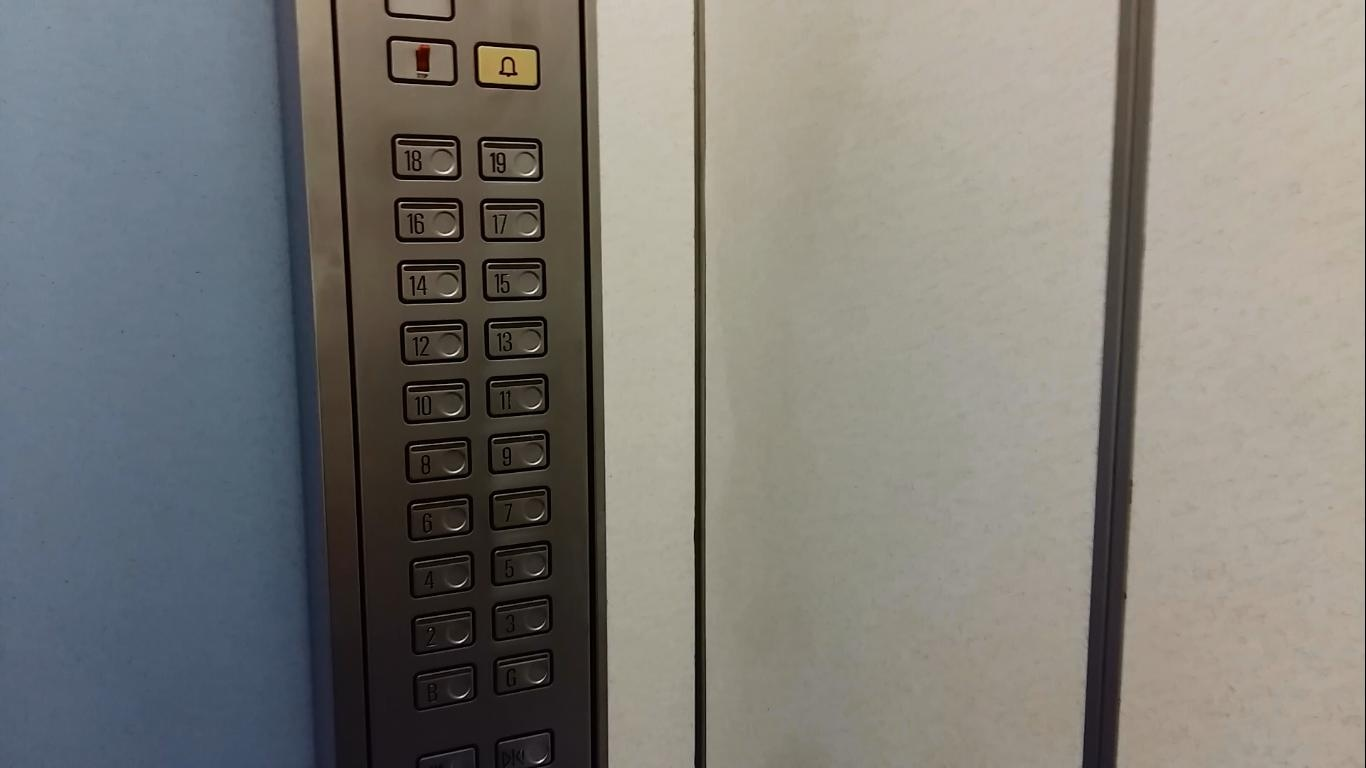10: (399, 375, 473, 426)
11: (484, 371, 553, 420)
12: (397, 317, 471, 366)
13: (482, 313, 551, 362)
14: (394, 255, 469, 306)
15: (479, 255, 549, 304)
16: (391, 194, 467, 246)
17: (477, 194, 549, 245)
18: (389, 130, 464, 183)
19: (473, 134, 546, 184)
2: (408, 605, 479, 657)
3: (488, 593, 556, 644)
4: (406, 548, 477, 600)
5: (488, 538, 554, 588)
6: (403, 493, 476, 544)
7: (486, 483, 554, 532)
8: (401, 434, 474, 486)
9: (484, 427, 553, 476)
B: (410, 660, 479, 714)
G: (490, 647, 557, 699)
alarm: (471, 38, 545, 95)
bt_switch: (384, 33, 462, 90)
close: (492, 725, 557, 768)
